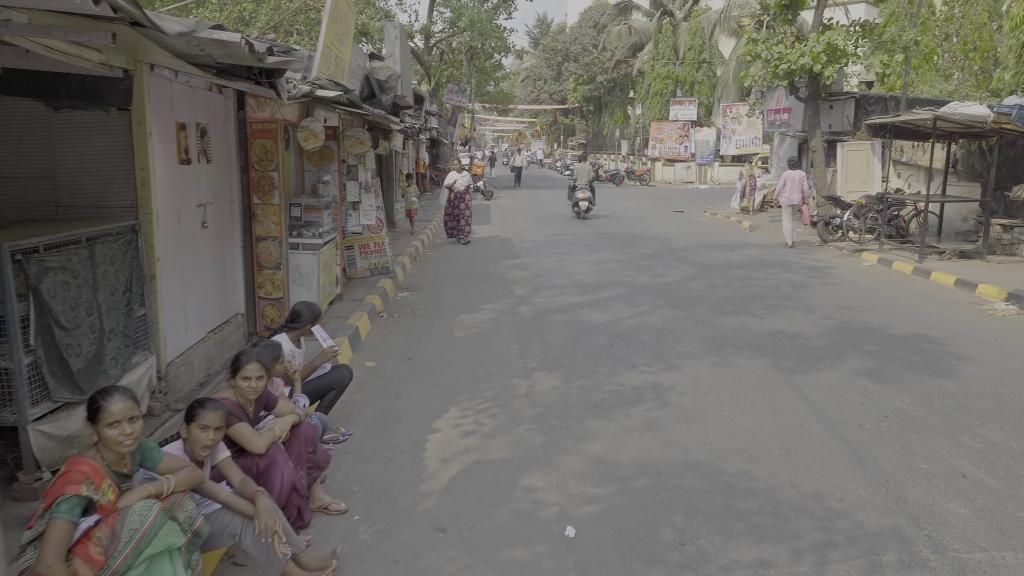garbage: (800, 204, 811, 228)
